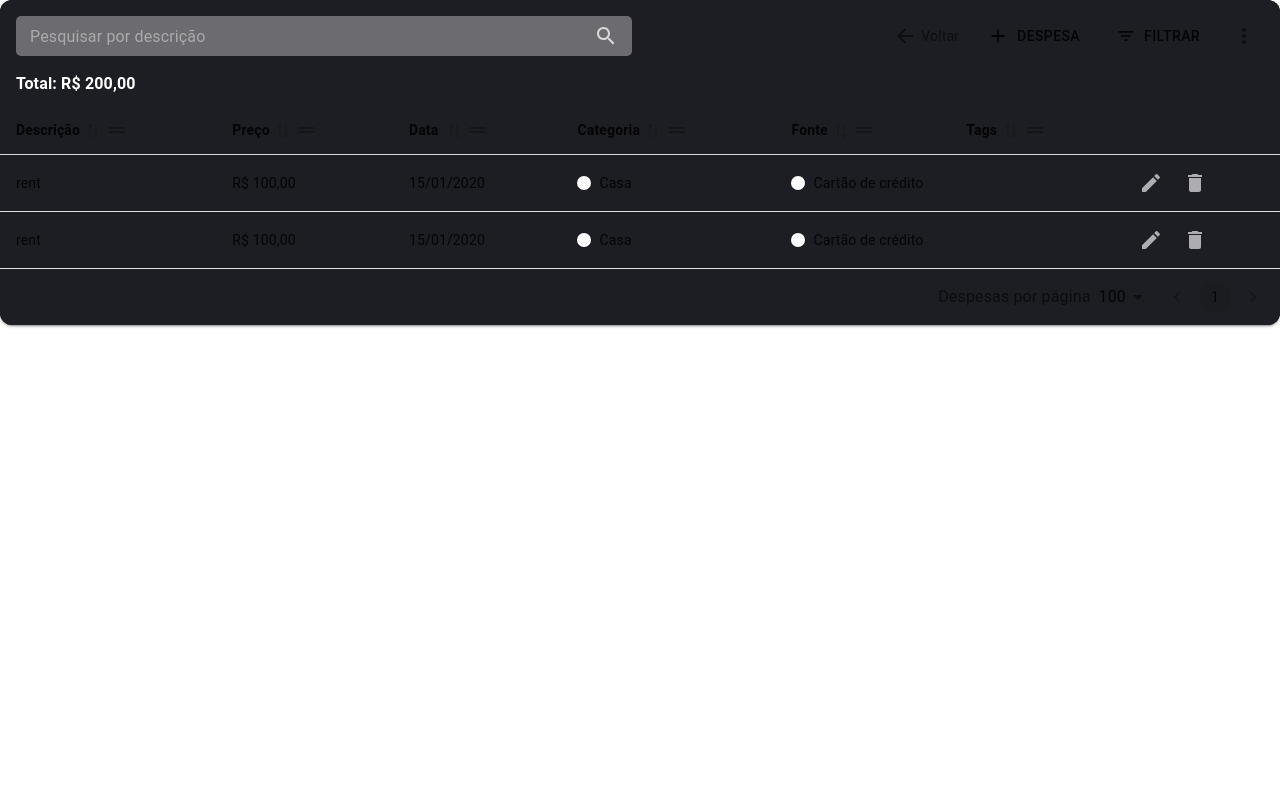
Test case: fixed rows keep the existing future deletion toggle and balance/report invalidation
The image size is (1280, 800).
Click the 1st button named "Deletar".
click(1195, 183)  # box [1175,163,1215,203]
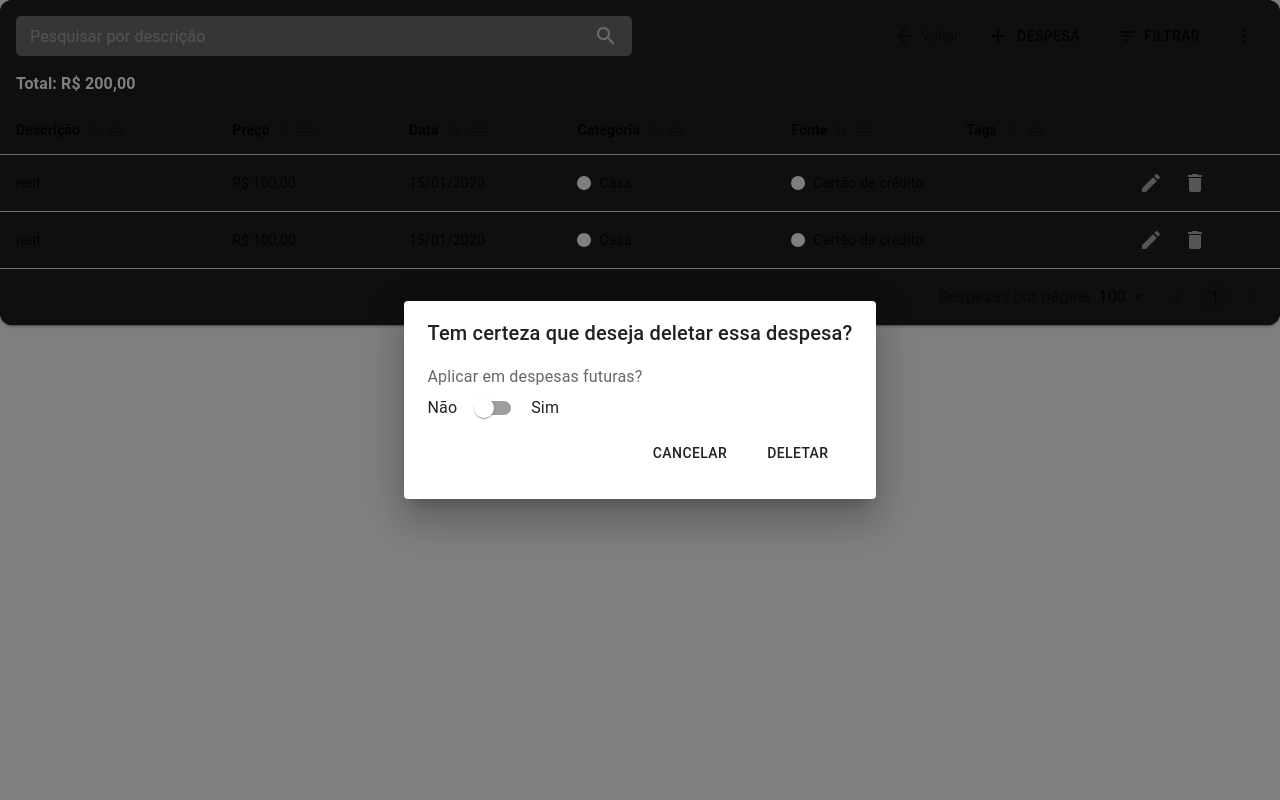
Now the text "Aplicar em despesas futuras?" is shown, box [428,367,642,386]
Click the checkbox.
click(493, 408)  # box [428,398,559,418]
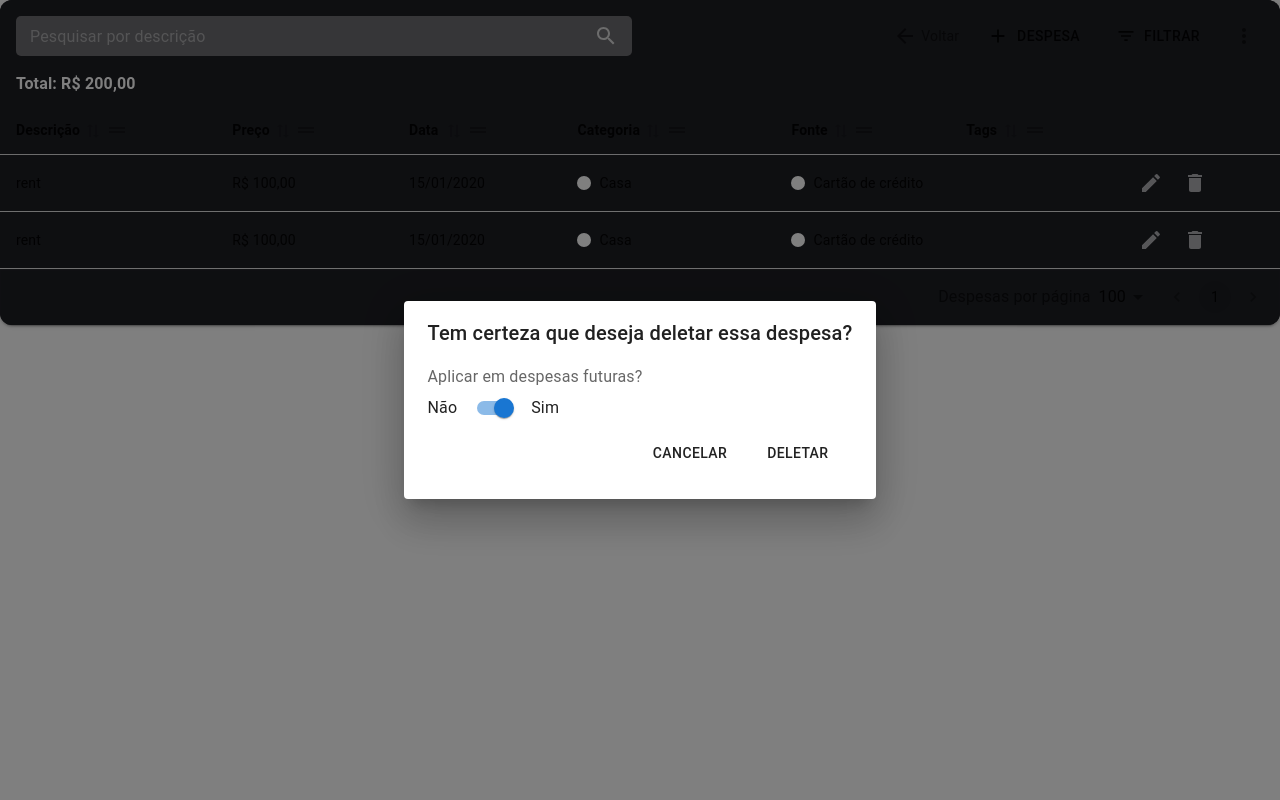
Click the button "Deletar".
click(798, 453)  # box [751,435,844,471]
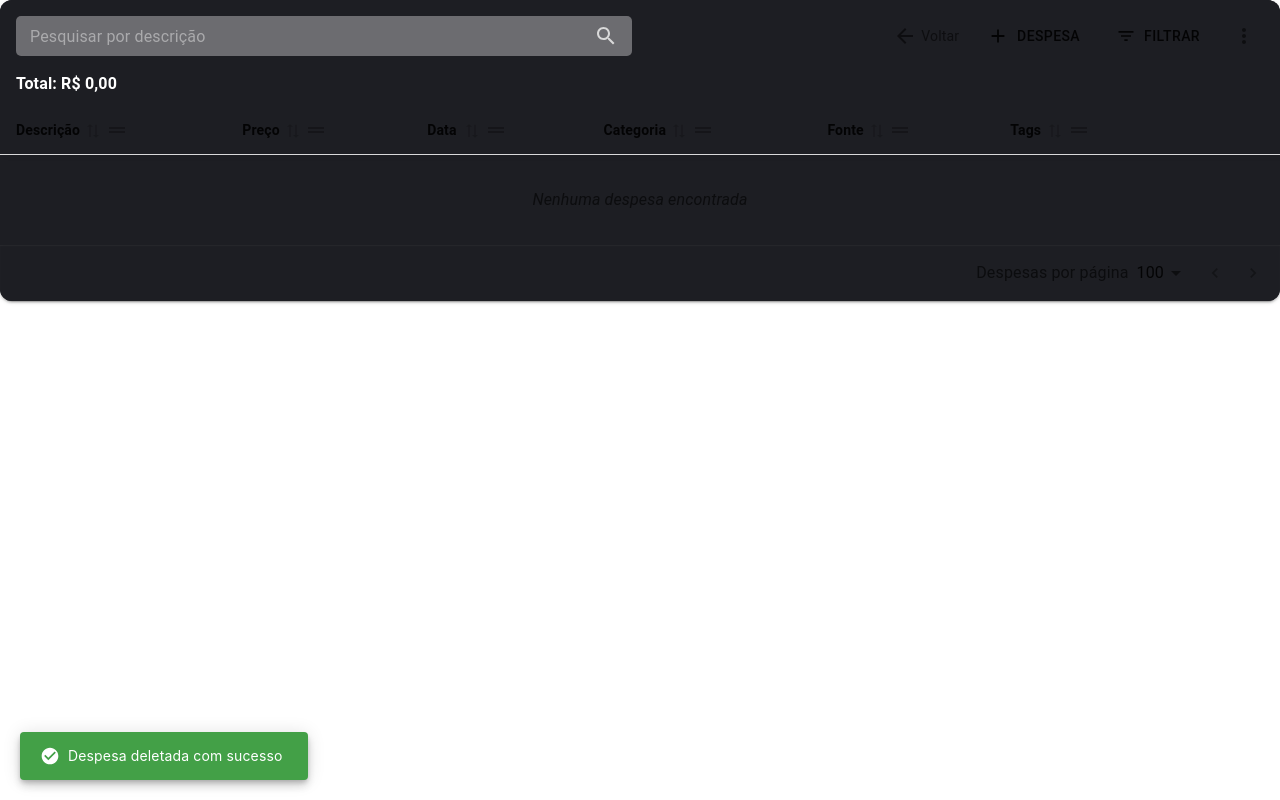
Now the text "Total: R$ 0,00" is shown, box [16,74,117,93]
